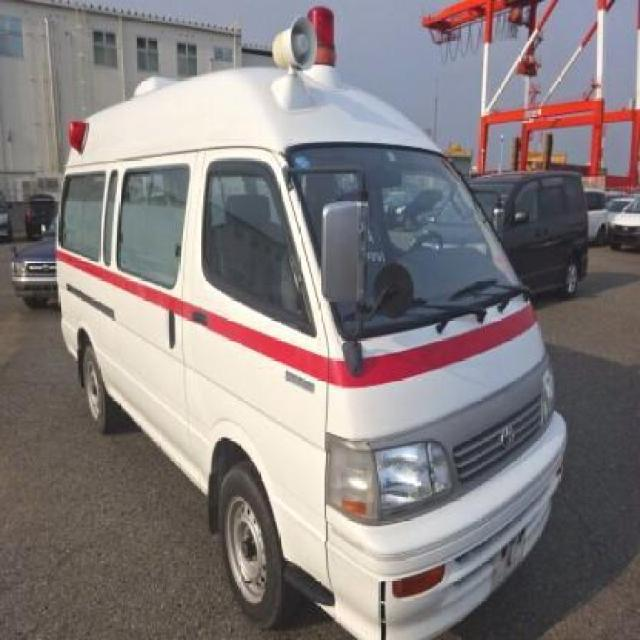Ambulance: (38, 25, 565, 625)
